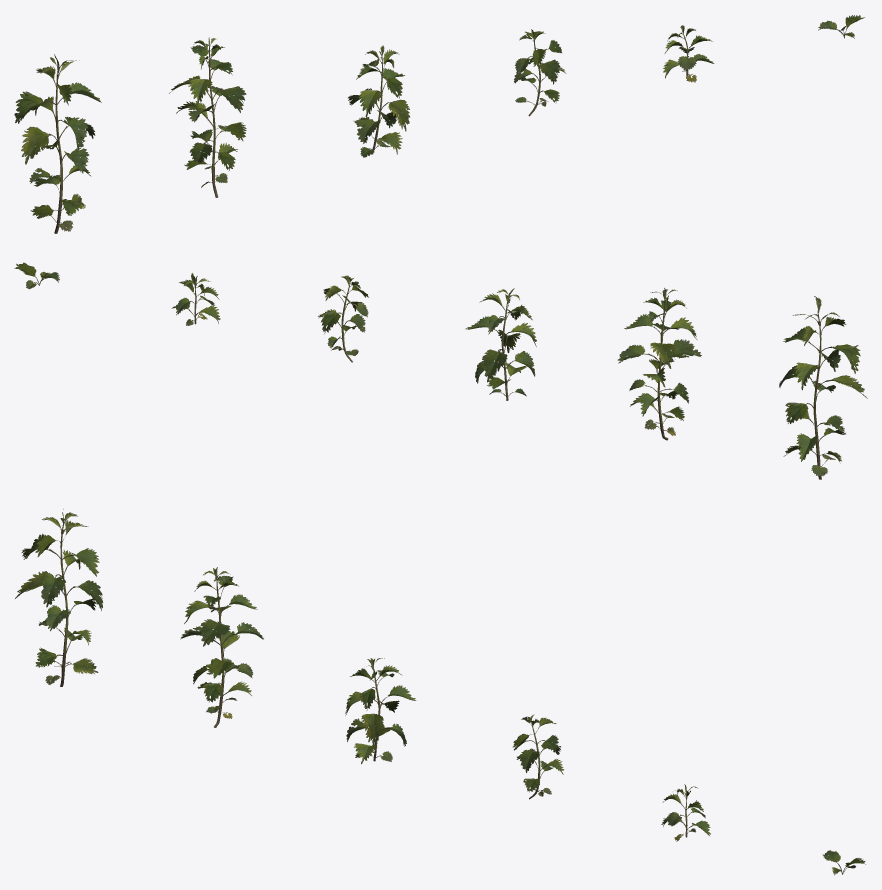
The model's file is ph-nettle_plant.glb.
The picture shows the model from 3 angles, top to bottom: view 1: azimuth 30°, elevation 25°; view 2: azimuth 150°, elevation 25°; view 3: azimuth 330°, elevation 25°; orthographic projection.
Visible parts, largest first — view 1: nettle_plant_medium_a_LOD0; view 2: nettle_plant_medium_a_LOD0; view 3: nettle_plant_medium_a_LOD0.
Part boxes in pixels (left/top/right/bottom): nettle_plant_medium_a_LOD0: left=14, top=15, right=864, bottom=233; nettle_plant_medium_a_LOD0: left=14, top=262, right=867, bottom=479; nettle_plant_medium_a_LOD0: left=15, top=509, right=865, bottom=875.
Size of the model in its own units: 1.08 by 0.2183 by 0.0946.
Materials: 1 (1 with a texture image).
